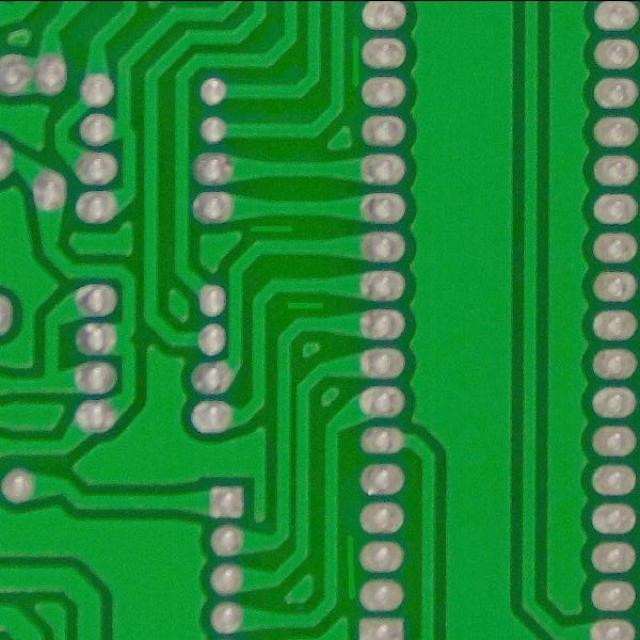Spurious_Cooper: (340, 529, 362, 604), (346, 30, 364, 91), (245, 220, 298, 236), (282, 296, 328, 314)
